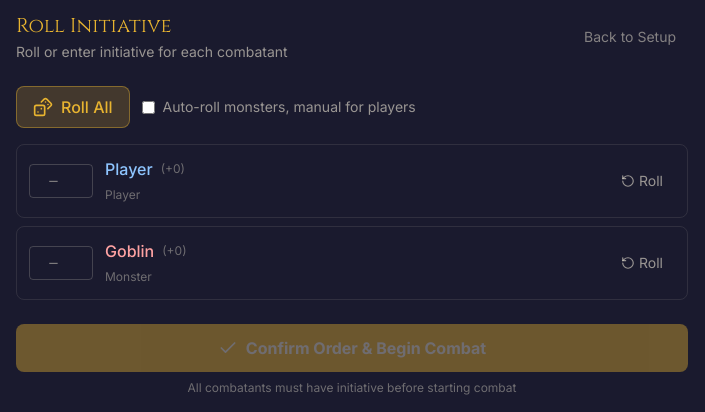
Scenario: InitiativeRoller › should show "Roll Monsters" when auto-roll toggle is enabled
# The checkbox is the input inside the label
Click the checkbox at (148, 107), box [142,100,154,114]
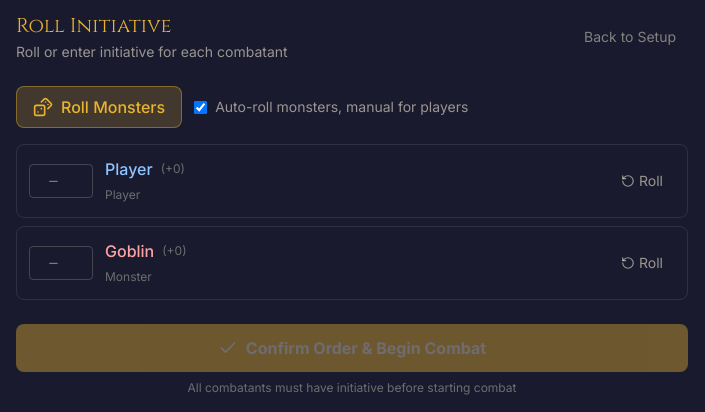
Expected: the button "Roll Monsters" is shown, [16,86,182,128]
